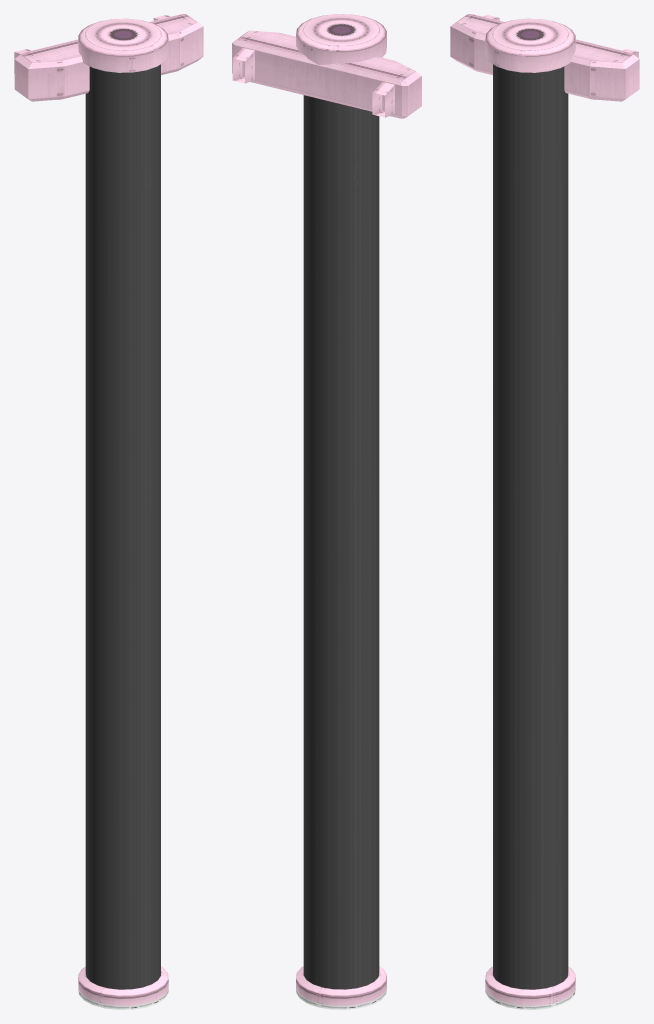
The model's file is support_magnetic_2.fbx.
The picture shows the model from 3 angles, left to right: view 1: azimuth 30°, elevation 25°; view 2: azimuth 150°, elevation 25°; view 3: azimuth 330°, elevation 25°; orthographic projection.
Visible parts, largest first — view 1: support_pylon, support_hinge_base, support_top, support_ground; view 2: support_pylon, support_hinge_base, support_top, support_ground; view 3: support_pylon, support_hinge_base, support_top, support_ground.
Part boxes in pixels (x1,y1,x2,y2): support_pylon: [85, 64, 160, 989]; support_hinge_base: [14, 14, 203, 101]; support_top: [78, 18, 168, 72]; support_ground: [78, 966, 168, 1009]; support_pylon: [303, 95, 379, 989]; support_hinge_base: [232, 30, 421, 118]; support_top: [296, 14, 386, 64]; support_ground: [296, 966, 386, 1009]; support_pylon: [493, 64, 568, 989]; support_hinge_base: [450, 14, 639, 101]; support_top: [485, 18, 575, 72]; support_ground: [485, 966, 575, 1009].
Size of the model in its own units: 2243 by 11695 by 1231.
